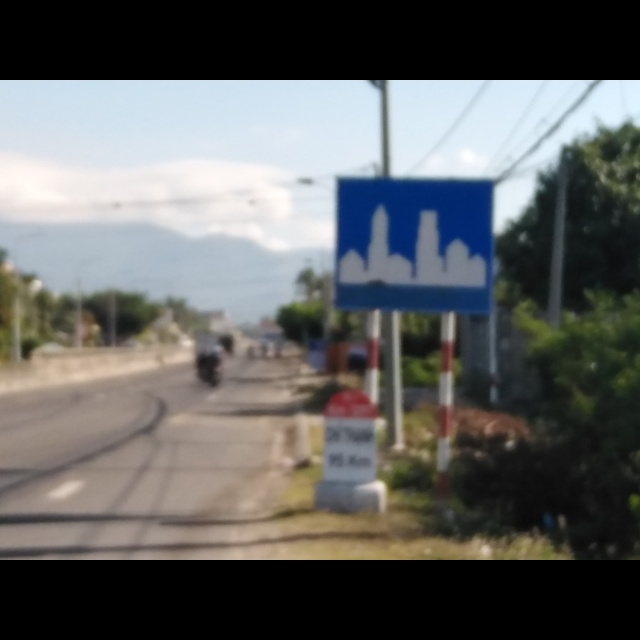Khu đông dân cư: (329, 168, 496, 316)
